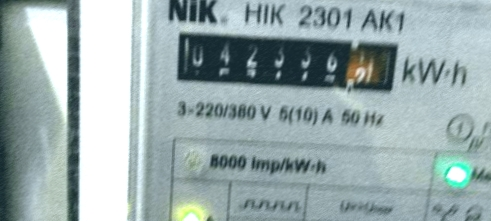0: (190, 40, 204, 69)
2: (242, 41, 261, 68)
3: (269, 41, 286, 70), (298, 41, 313, 70)
4: (216, 41, 233, 68)
6: (323, 47, 339, 74)
screen: (165, 20, 406, 105)
